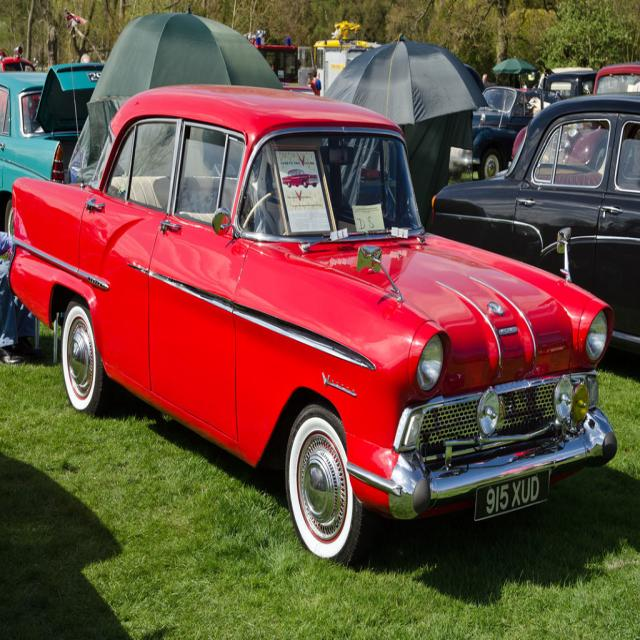car: (9, 85, 614, 569)
